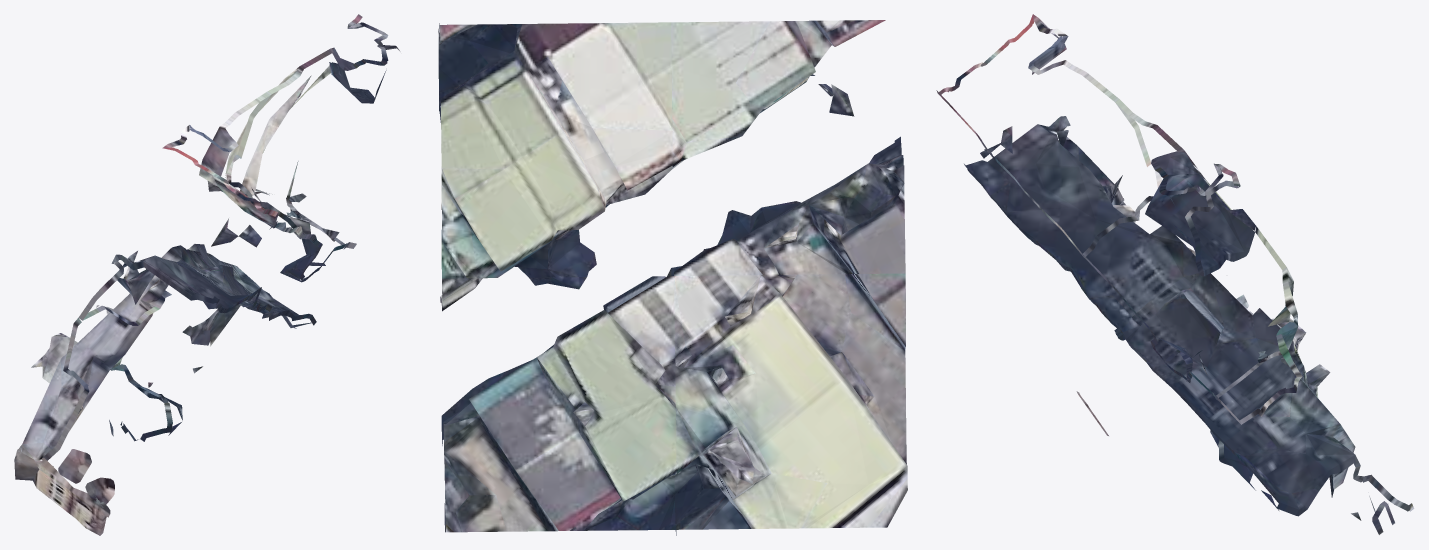
The picture shows the model from 3 angles, left to right: view 1: azimuth 30°, elevation 25°; view 2: azimuth 150°, elevation 25°; view 3: azimuth 270°, elevation 25°; orthographic projection. The views are drawn at different scales.
Size of the model in its own units: 40.02 by 38.99 by 38.66.
2 materials, 2 textured.
